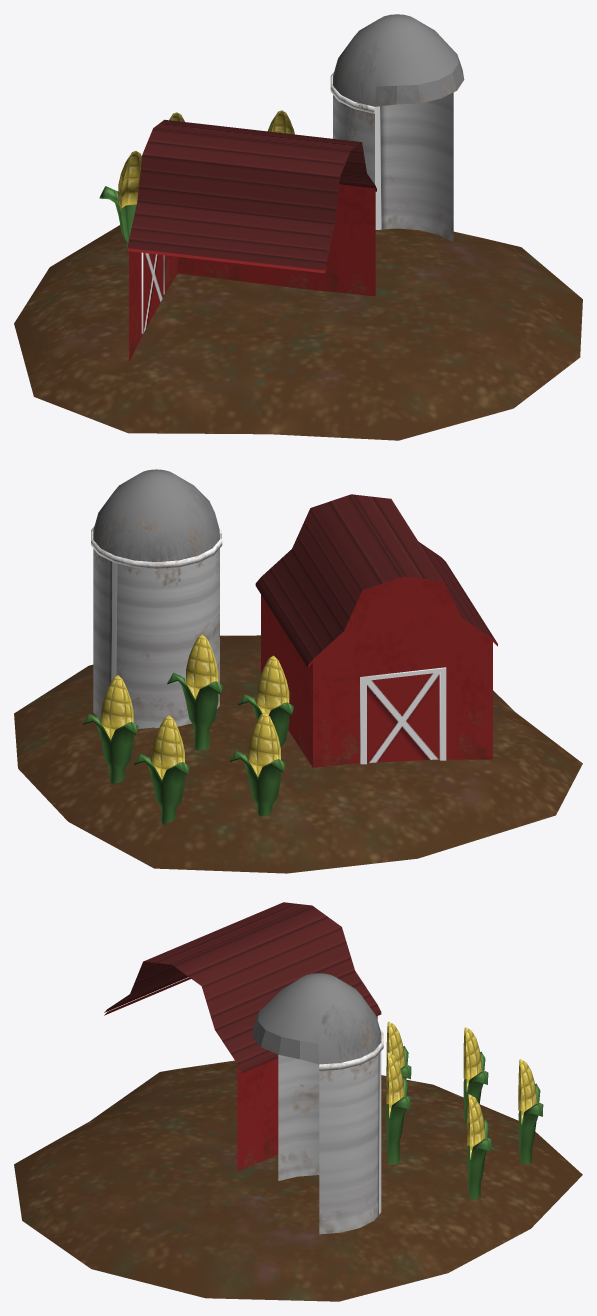
The model's file is CornFieldFarm.FBX.
The picture shows the model from 3 angles, top to bottom: view 1: azimuth 30°, elevation 25°; view 2: azimuth 150°, elevation 25°; view 3: azimuth 270°, elevation 25°; orthographic projection. The views are drawn at different scales.
Parts seen in each view (by area): view 1: Sphere001, Box001, Cylinder001, Box006; view 2: Sphere001, Box001, Cylinder001, Box007, Box004, Box005, Box006, Box008; view 3: Sphere001, Cylinder001, Box001, Box007, Box004, Box005, Box006, Box008.
Part boxes in pixels (x1=…): Sphere001: x1=14, y1=225, x2=582, y2=440; Box001: x1=127, y1=119, x2=376, y2=361; Cylinder001: x1=330, y1=14, x2=464, y2=241; Box006: x1=99, y1=151, x2=141, y2=251; Sphere001: x1=14, y1=635, x2=582, y2=873; Box001: x1=255, y1=494, x2=497, y2=767; Cylinder001: x1=91, y1=469, x2=222, y2=728; Box007: x1=167, y1=634, x2=222, y2=750; Box004: x1=134, y1=715, x2=189, y2=825; Box005: x1=82, y1=675, x2=138, y2=784; Box006: x1=230, y1=712, x2=285, y2=816; Box008: x1=238, y1=655, x2=293, y2=747; Sphere001: x1=14, y1=1060, x2=582, y2=1301; Cylinder001: x1=253, y1=973, x2=383, y2=1234; Box001: x1=104, y1=902, x2=381, y2=1171; Box007: x1=386, y1=1052, x2=410, y2=1165; Box004: x1=518, y1=1059, x2=543, y2=1164; Box005: x1=467, y1=1094, x2=491, y2=1199; Box006: x1=463, y1=1027, x2=488, y2=1126; Box008: x1=386, y1=1021, x2=411, y2=1079.
Size of the model in its own units: 77.96 by 38.5 by 76.34.
